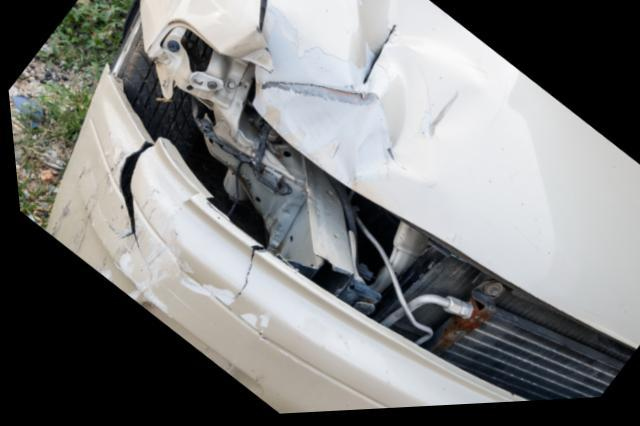crack: (114, 144, 151, 254), (359, 28, 396, 93), (224, 248, 260, 303)
dent: (260, 0, 512, 193)
no part: (108, 26, 480, 358)
scratch: (41, 150, 267, 336)
